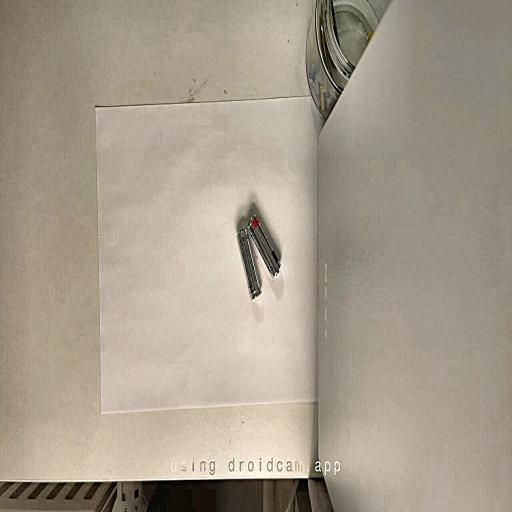RainbowAA: (247, 215, 280, 277), (237, 228, 261, 299)
